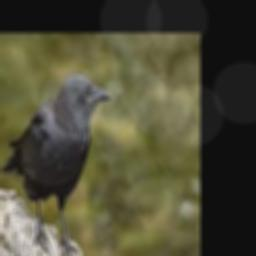Crow: (3, 75, 113, 256)
